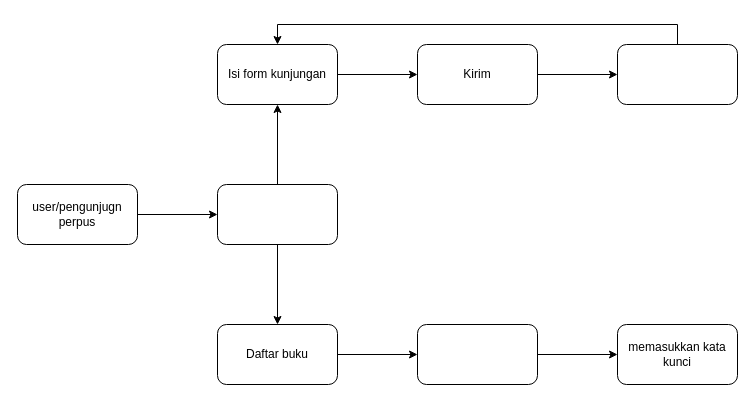
Some shapes in this 755 by 402 pixel diagram are drawn without their labels. Here are the shapes that lost their labels. From the top down, the centre of each, then its label:
At (677,74): "daftar kunjungan".
At (277,214): "masuk ke perpus".
At (477,354): "Pencarian".
